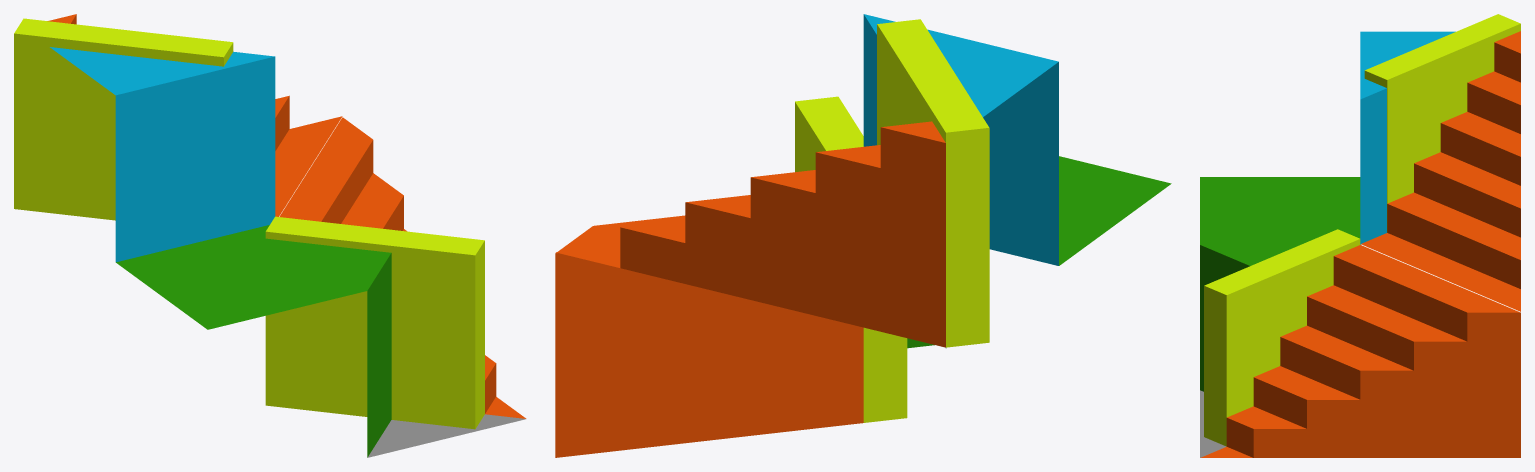
The picture shows the model from 3 angles, left to right: view 1: azimuth 30°, elevation 25°; view 2: azimuth 150°, elevation 25°; view 3: azimuth 270°, elevation 25°; orthographic projection. The views are drawn at different scales.
Visible parts, largest first — view 1: T_27_c_0; view 2: T_27_c_0; view 3: T_27_c_0.
Part boxes in pixels (bbox=[...]): T_27_c_0: bbox=[14, 14, 526, 457]; T_27_c_0: bbox=[555, 14, 1171, 457]; T_27_c_0: bbox=[1200, 14, 1520, 457].
Bounding box in the file's own units: 107 × 103 × 99.84.
